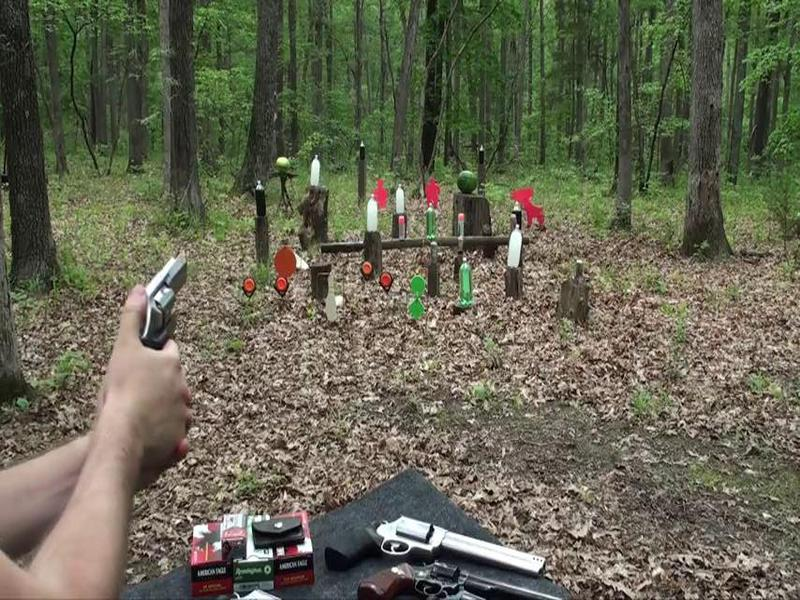Revolver: (107, 240, 213, 360)
